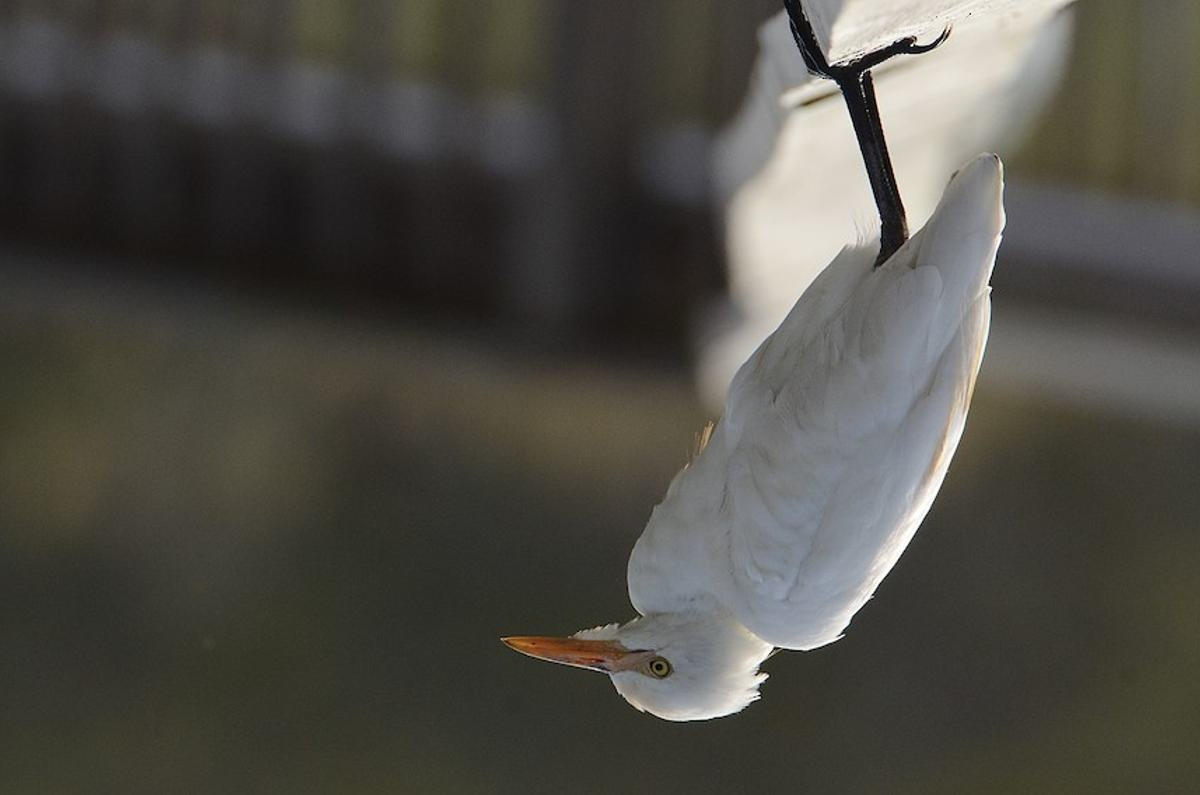egret: (488, 1, 1037, 722)
